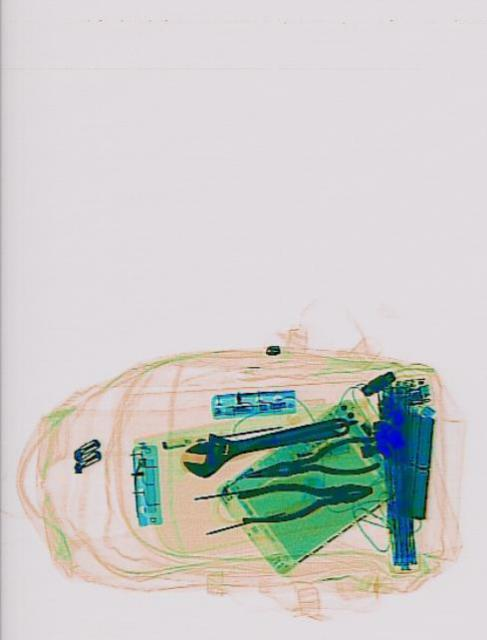Pliers: (240, 431, 381, 494), (235, 467, 374, 525)
Wrench: (180, 398, 351, 479)
